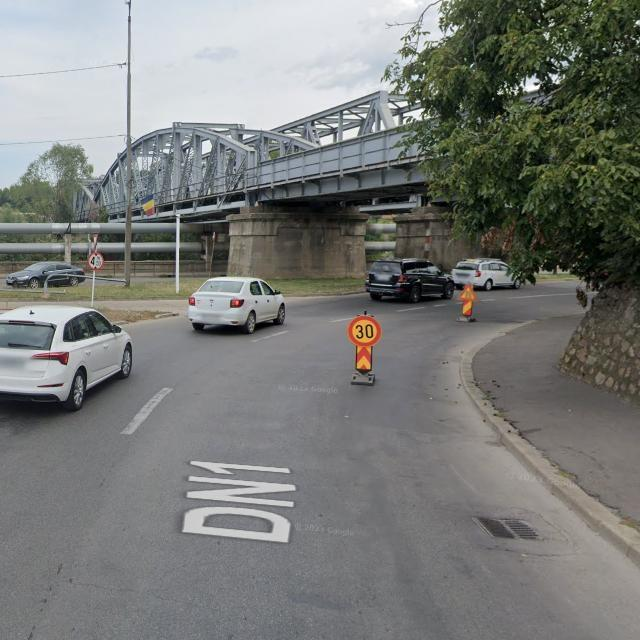forb_speed_over_30: (347, 315, 382, 347)
